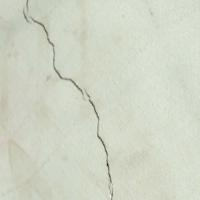crack: (20, 1, 117, 199)
